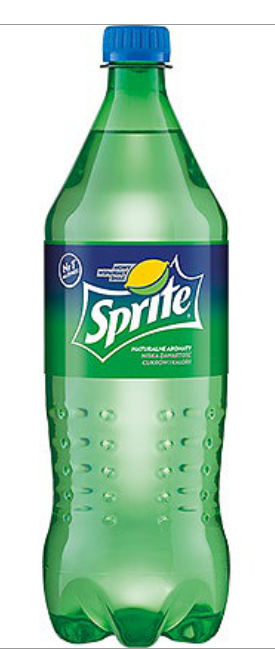sprite_bottle: (46, 26, 230, 649)
